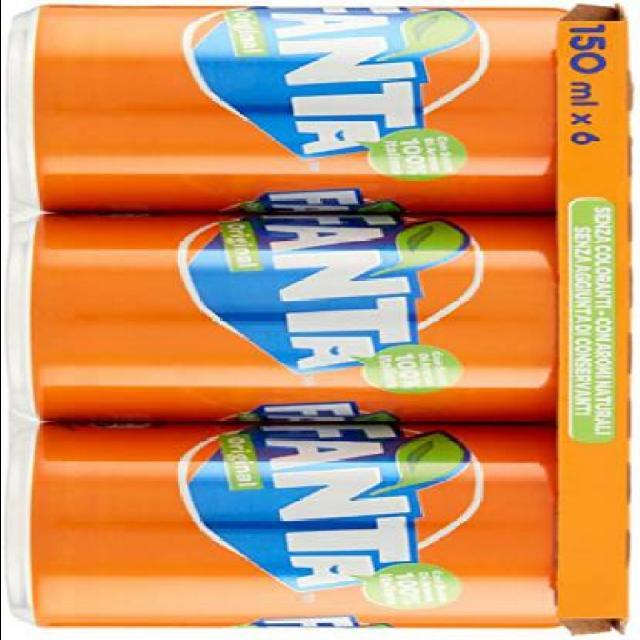Fanta: (16, 1, 576, 217), (4, 424, 558, 632), (4, 214, 561, 420)
